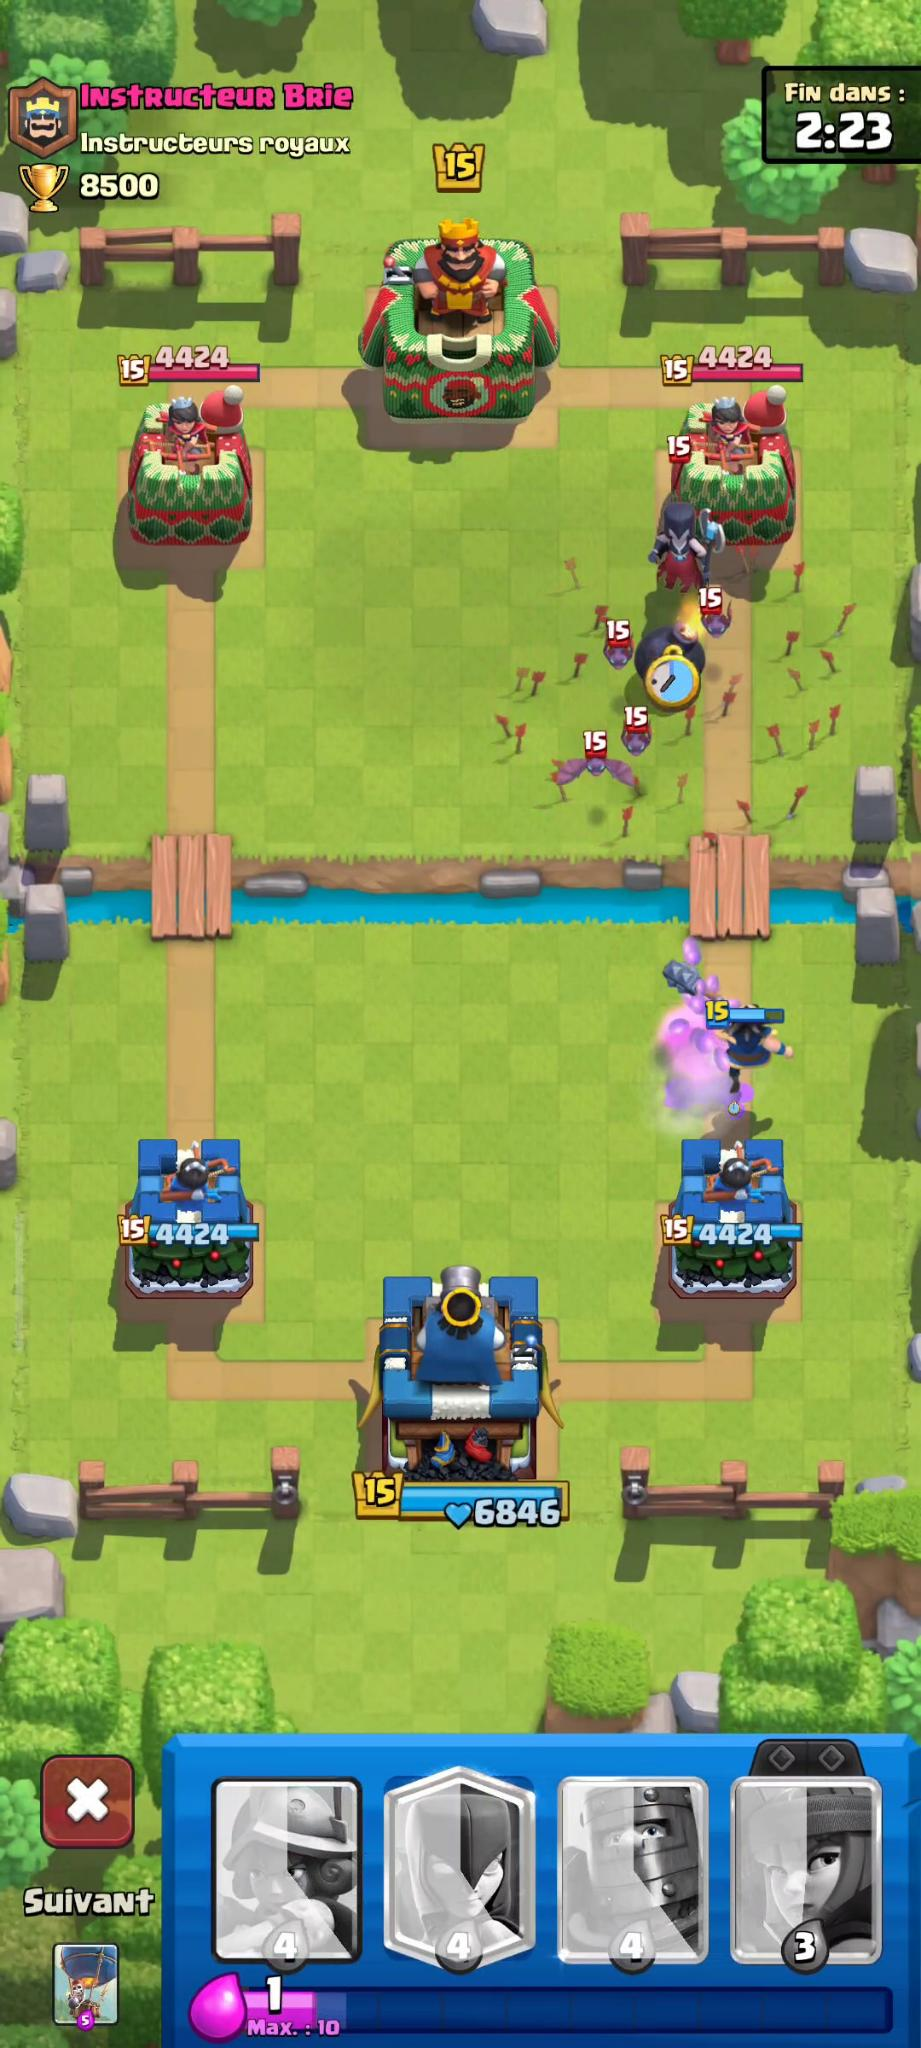bat: (557, 729, 647, 797), (589, 614, 634, 679), (696, 579, 747, 635)
